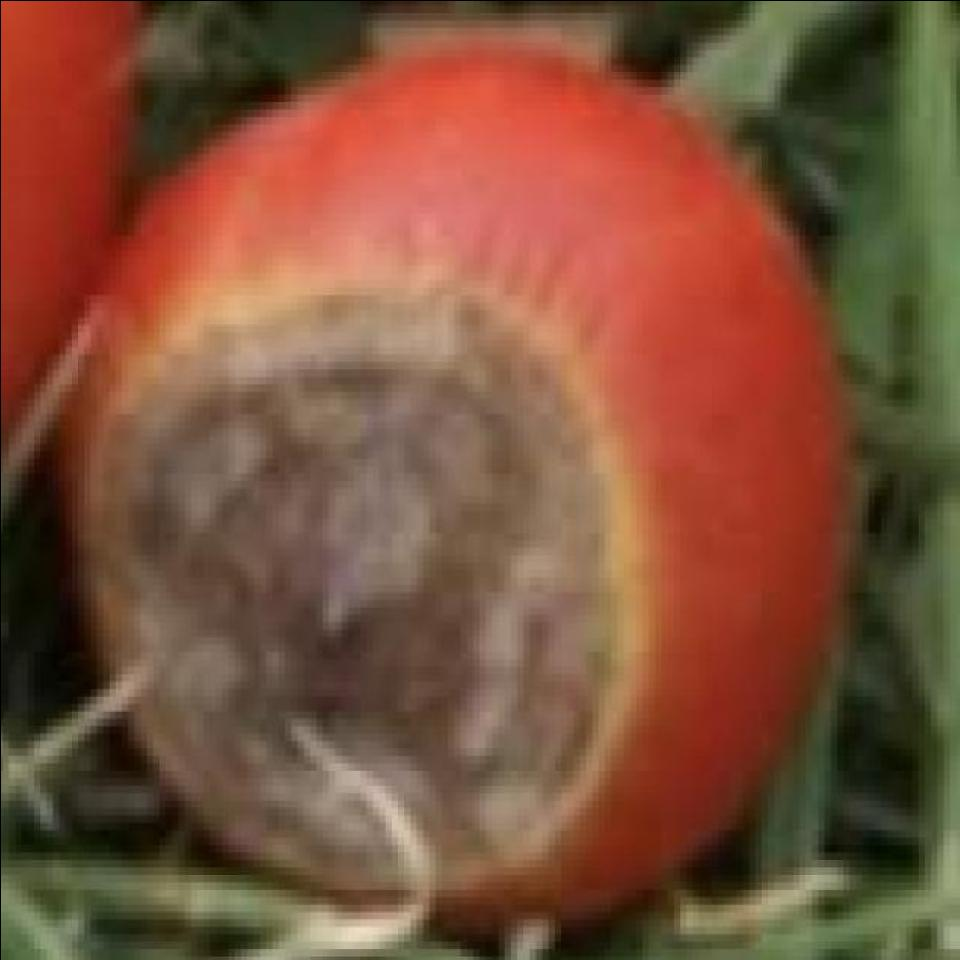Blossom_end_rot: (87, 244, 656, 900)
